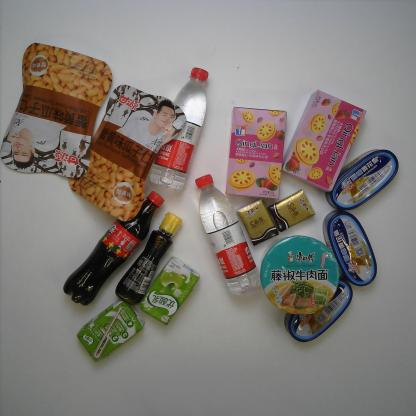Canned Food: (324, 146, 400, 212), (282, 275, 353, 344), (321, 208, 379, 289)
Dessert: (280, 86, 367, 196), (223, 106, 289, 202)
Dried Fruit: (67, 80, 187, 224), (2, 39, 114, 182)
Drink: (62, 189, 166, 307), (193, 172, 262, 299), (149, 66, 209, 193)
Instant Noodles: (260, 233, 340, 316)
Milk: (137, 255, 203, 328), (76, 297, 146, 363)
Seasoner: (113, 208, 184, 306)
Tissue: (235, 196, 280, 248), (267, 188, 316, 232)
